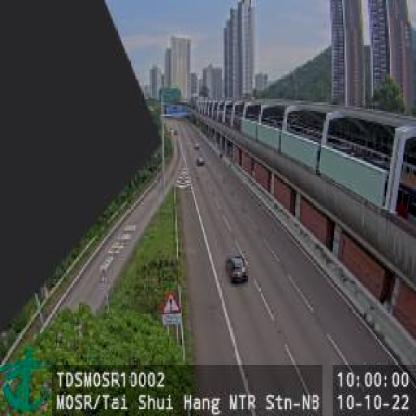Car: (226, 252, 248, 284), (196, 154, 206, 166)
